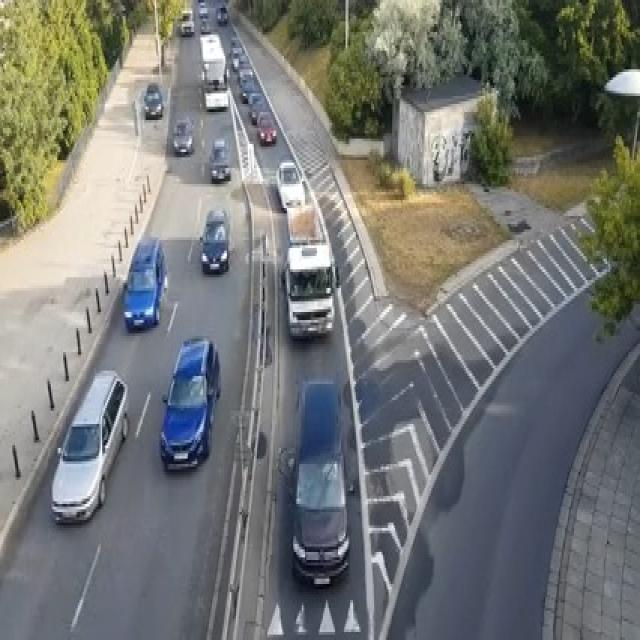car: (284, 376, 350, 587), (50, 368, 129, 523), (159, 336, 221, 469), (282, 242, 335, 338), (122, 234, 166, 330), (200, 205, 230, 272), (275, 160, 305, 211), (209, 136, 230, 181), (171, 114, 194, 154), (142, 83, 164, 117), (256, 109, 276, 144), (251, 96, 267, 123), (240, 80, 260, 101), (179, 8, 194, 35), (237, 67, 254, 85), (215, 3, 228, 24), (230, 35, 242, 53), (197, 0, 207, 19), (200, 19, 210, 32)
